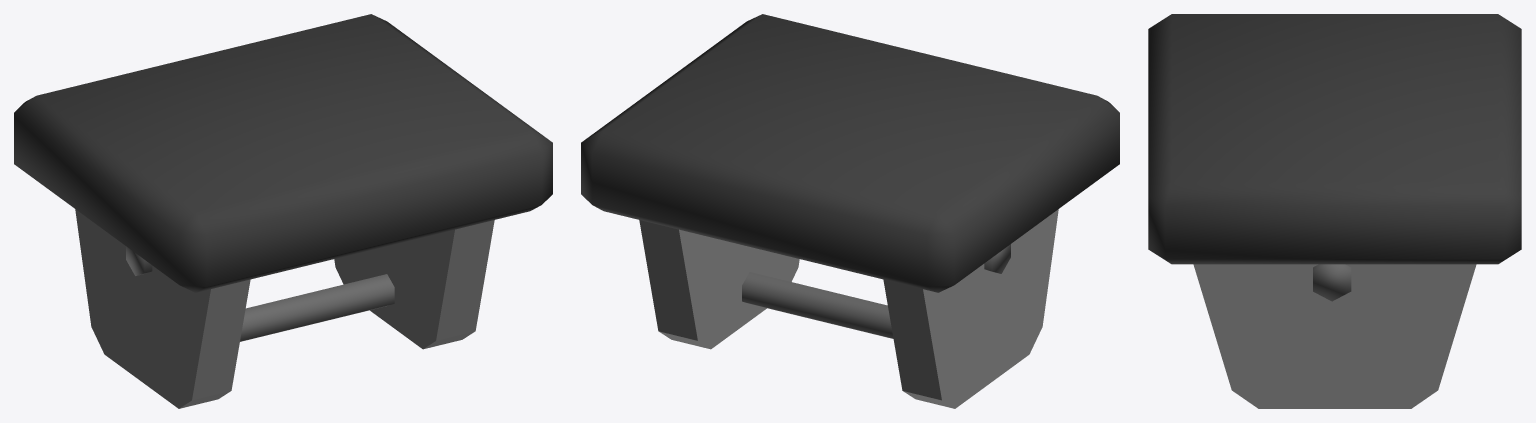
Rendered from Stationary_Rowing_Machine_Seat.fbx.
3 renders of one model, left to right at view 1: azimuth 30°, elevation 25°; view 2: azimuth 150°, elevation 25°; view 3: azimuth 270°, elevation 25°, orthographic. The views are drawn at different scales.
Parts seen in each view (by area): view 1: Stationary_Rowing_Machine_Seat; view 2: Stationary_Rowing_Machine_Seat; view 3: Stationary_Rowing_Machine_Seat.
Boxes of the visible parts, x1,y1,x2,y2 form: Stationary_Rowing_Machine_Seat: [14, 14, 552, 408]; Stationary_Rowing_Machine_Seat: [581, 14, 1119, 408]; Stationary_Rowing_Machine_Seat: [1148, 14, 1521, 408].
Size of the model in its own units: 48.64 by 29.14 by 41.07.
